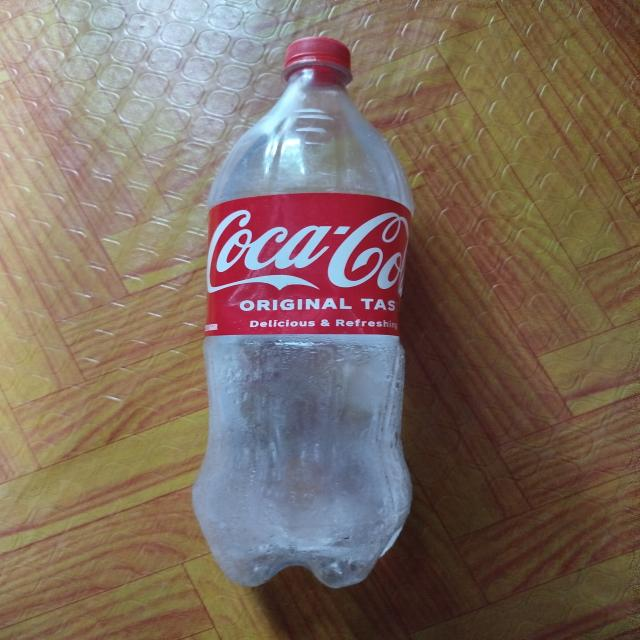plastic: (184, 28, 432, 600)
